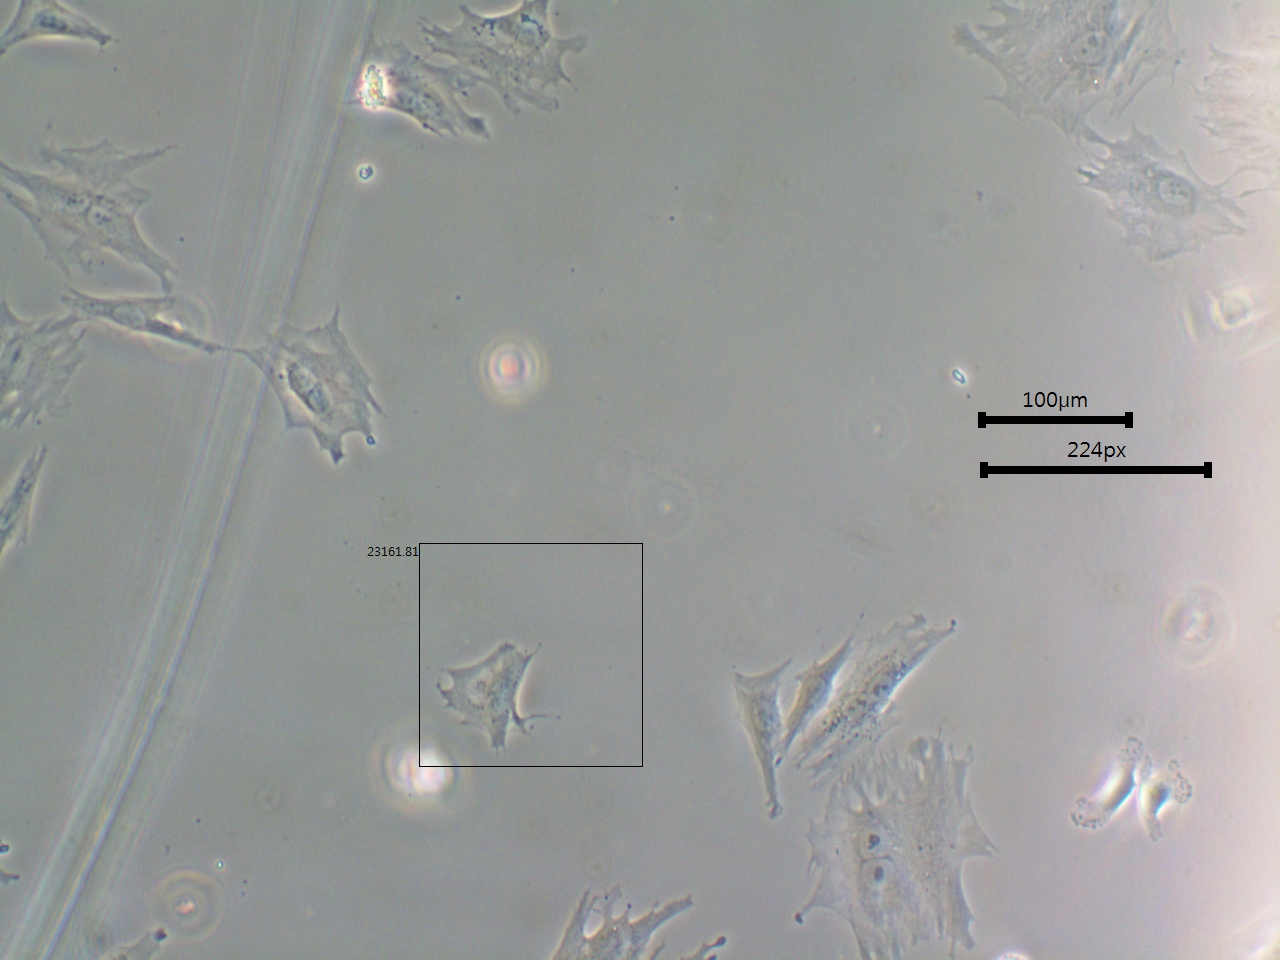dividing: (803, 727, 997, 960), (5, 118, 200, 289), (239, 302, 400, 470)
medium-spread: (1085, 126, 1261, 269), (416, 1, 602, 125)
small-polygonal: (726, 646, 795, 817), (787, 605, 856, 762)
small-spread: (430, 642, 567, 750)
